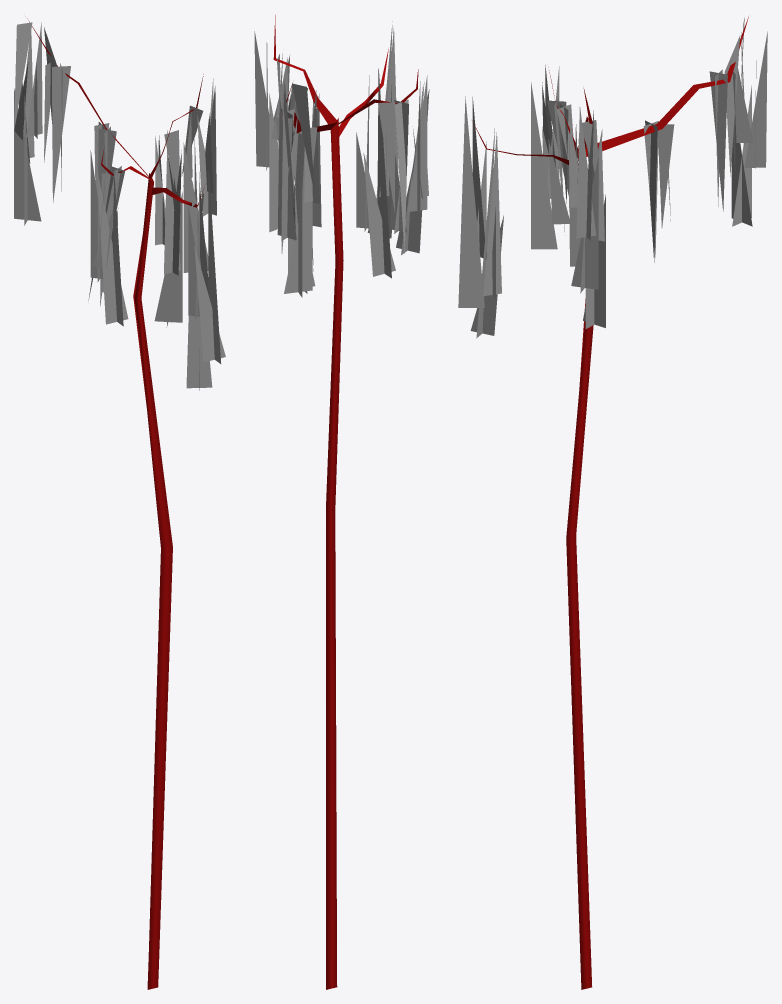
Rendered from env_forest_birchsmall01_lod1.fbx.
3 renders of one model, left to right at view 1: azimuth 30°, elevation 25°; view 2: azimuth 150°, elevation 25°; view 3: azimuth 270°, elevation 25°, orthographic. The views are drawn at different scales.
Parts seen in each view (by area): view 1: env_forest_birchsmall01_lod1__submesh0; view 2: env_forest_birchsmall01_lod1__submesh0; view 3: env_forest_birchsmall01_lod1__submesh0.
Boxes of the visible parts, x1=… form: env_forest_birchsmall01_lod1__submesh0: x1=14, y1=18, x2=225, y2=989; env_forest_birchsmall01_lod1__submesh0: x1=254, y1=15, x2=429, y2=989; env_forest_birchsmall01_lod1__submesh0: x1=458, y1=16, x2=767, y2=989.
Size of the model in its own units: 8.11 by 50.99 by 15.04.
